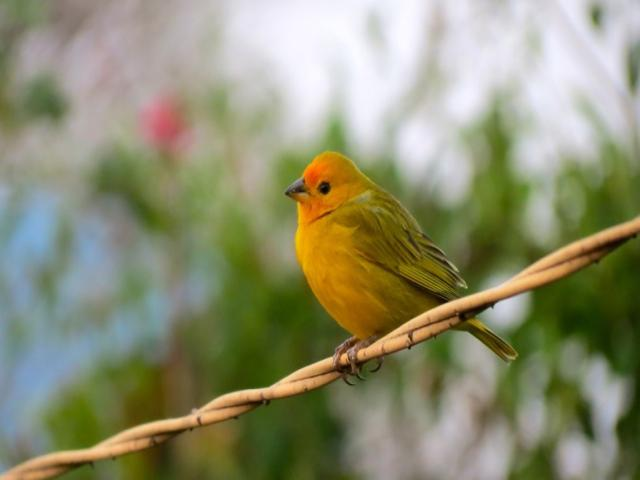Bird: (283, 154, 512, 382)
